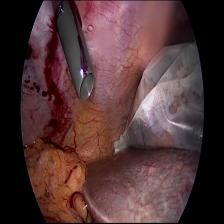Specimen Bag: (108, 43, 200, 156)
